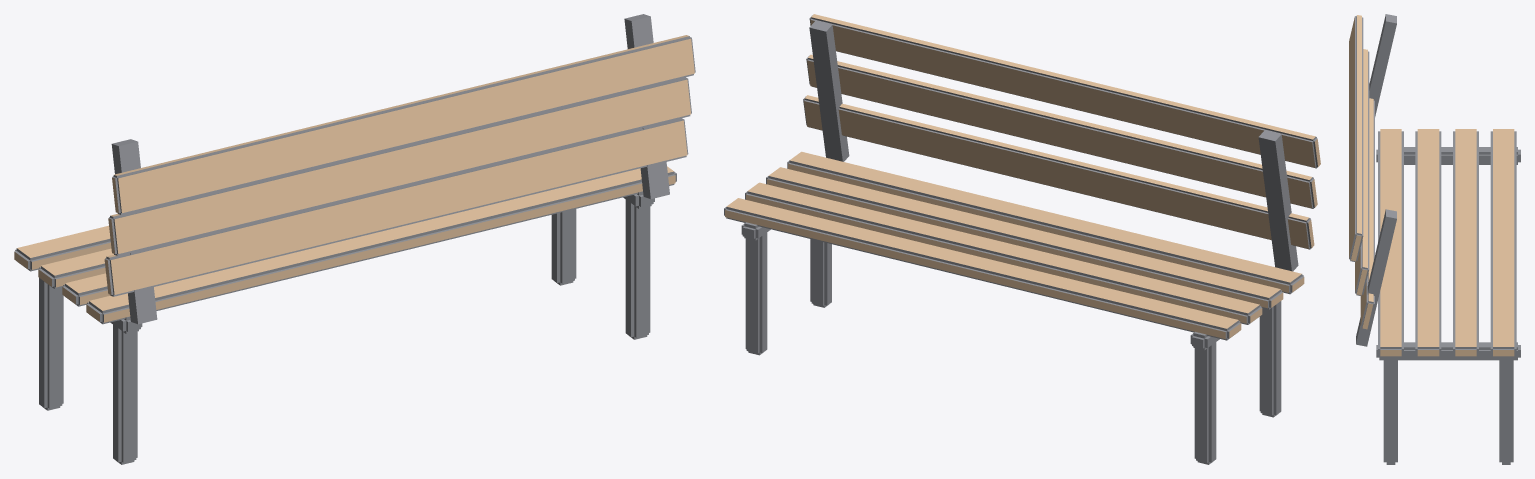
Rendered from bench.glb.
The picture shows the model from 3 angles, left to right: view 1: azimuth 30°, elevation 25°; view 2: azimuth 150°, elevation 25°; view 3: azimuth 270°, elevation 25°; orthographic projection. The views are drawn at different scales.
Parts seen in each view (by area): view 1: bench; view 2: bench; view 3: bench.
Part boxes in pixels (left/top/right/bottom): bench: left=14, top=14, right=695, bottom=464; bench: left=724, top=14, right=1320, bottom=464; bench: left=1349, top=14, right=1520, bottom=464.
Size of the model in its own units: 1.8 by 0.9537 by 0.5949.
